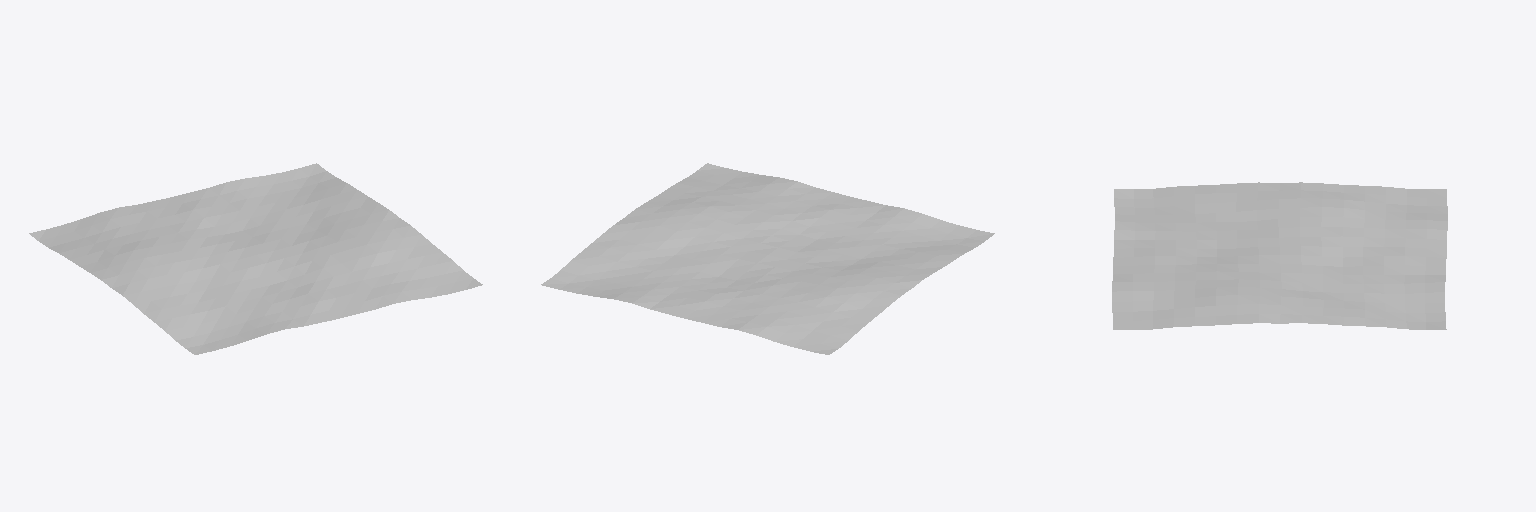
Rendered from water_000216.obj.
3 renders of one model, left to right at view 1: azimuth 30°, elevation 25°; view 2: azimuth 150°, elevation 25°; view 3: azimuth 270°, elevation 25°, orthographic.
Visible parts, largest first — view 1: Plan.003_Plan.001; view 2: Plan.003_Plan.001; view 3: Plan.003_Plan.001.
Boxes of the visible parts, x1,y1,x2,y2 form: Plan.003_Plan.001: [29, 163, 482, 354]; Plan.003_Plan.001: [541, 163, 994, 354]; Plan.003_Plan.001: [1112, 182, 1447, 329].
Size of the model in its own units: 60402 by 1935 by 60824.